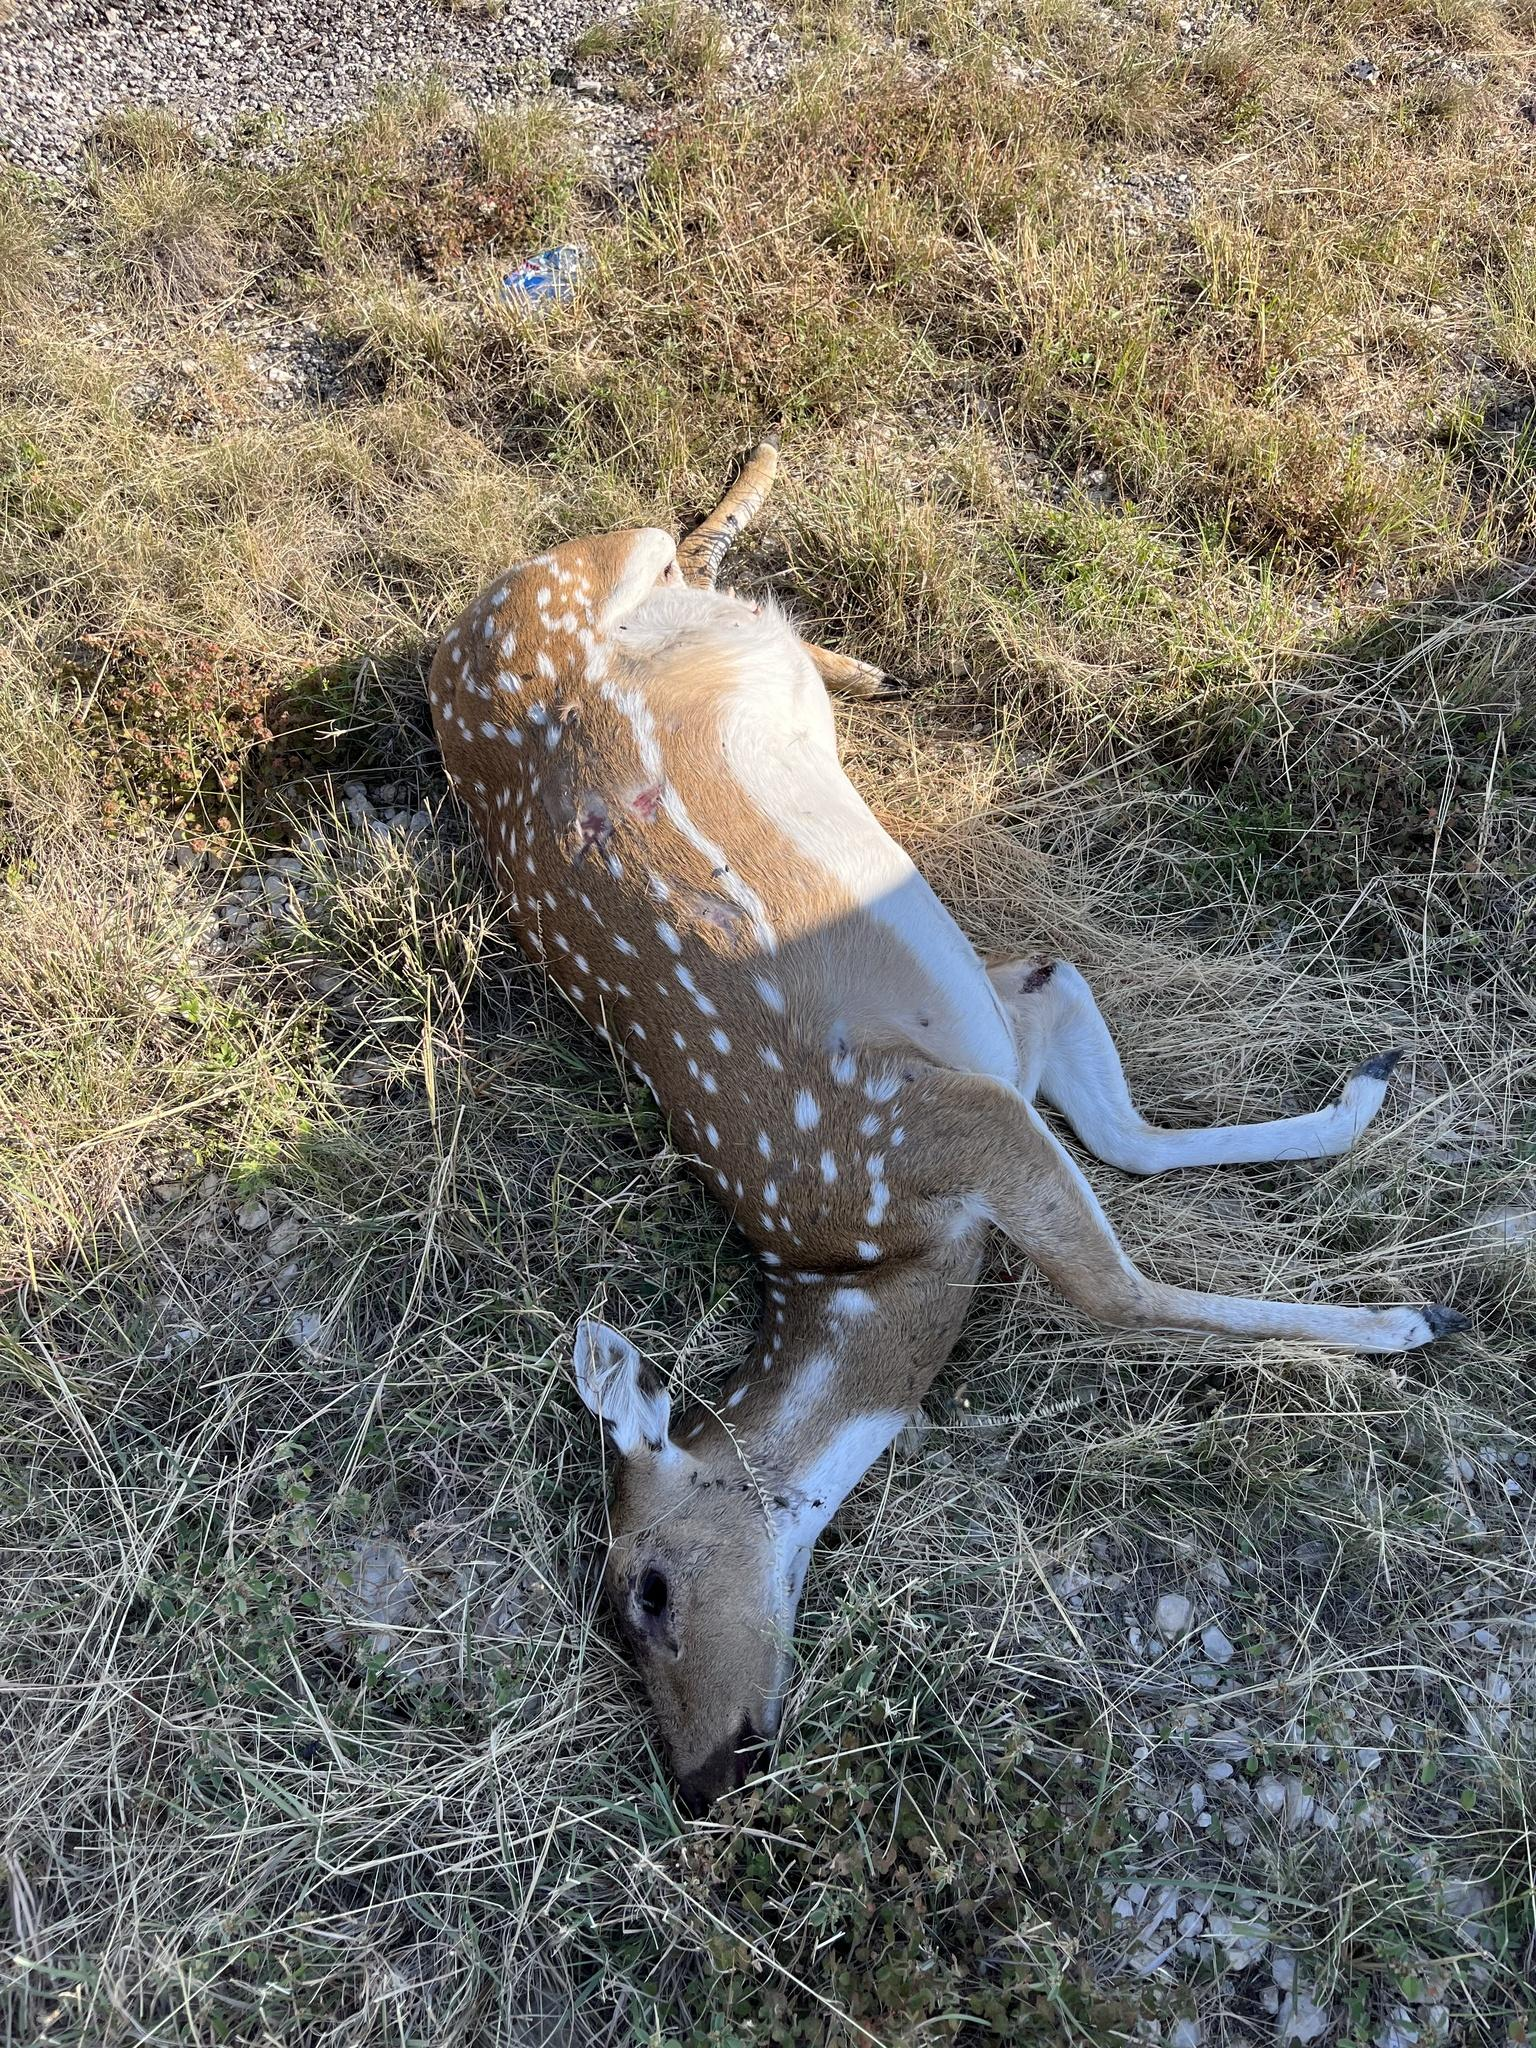Deer: (428, 443, 1459, 1804)
